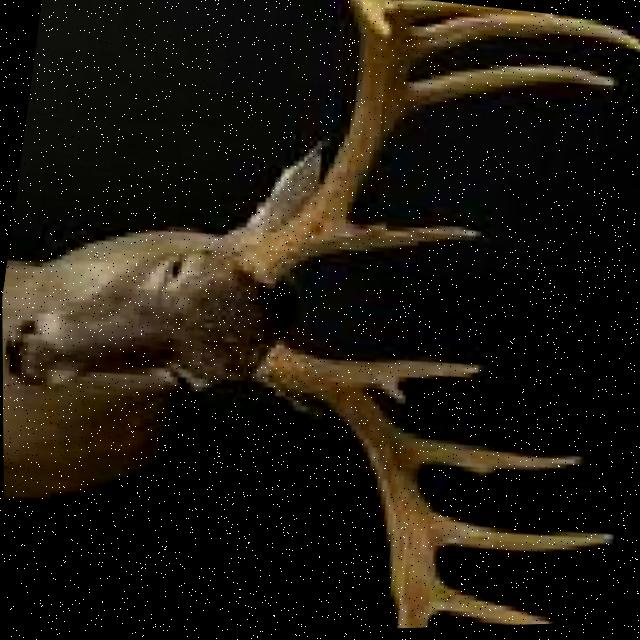E1: (374, 379, 406, 406)
L-F: (250, 338, 430, 631)
L-G1: (322, 360, 482, 389)
L-G2: (402, 433, 586, 482)
L-G3: (428, 509, 614, 555)
L-G4: (428, 577, 554, 629)
R-F: (235, 0, 406, 289)
R-G1: (328, 222, 481, 254)
R-G2: (405, 66, 619, 110)
R-G4: (396, 0, 553, 21)
